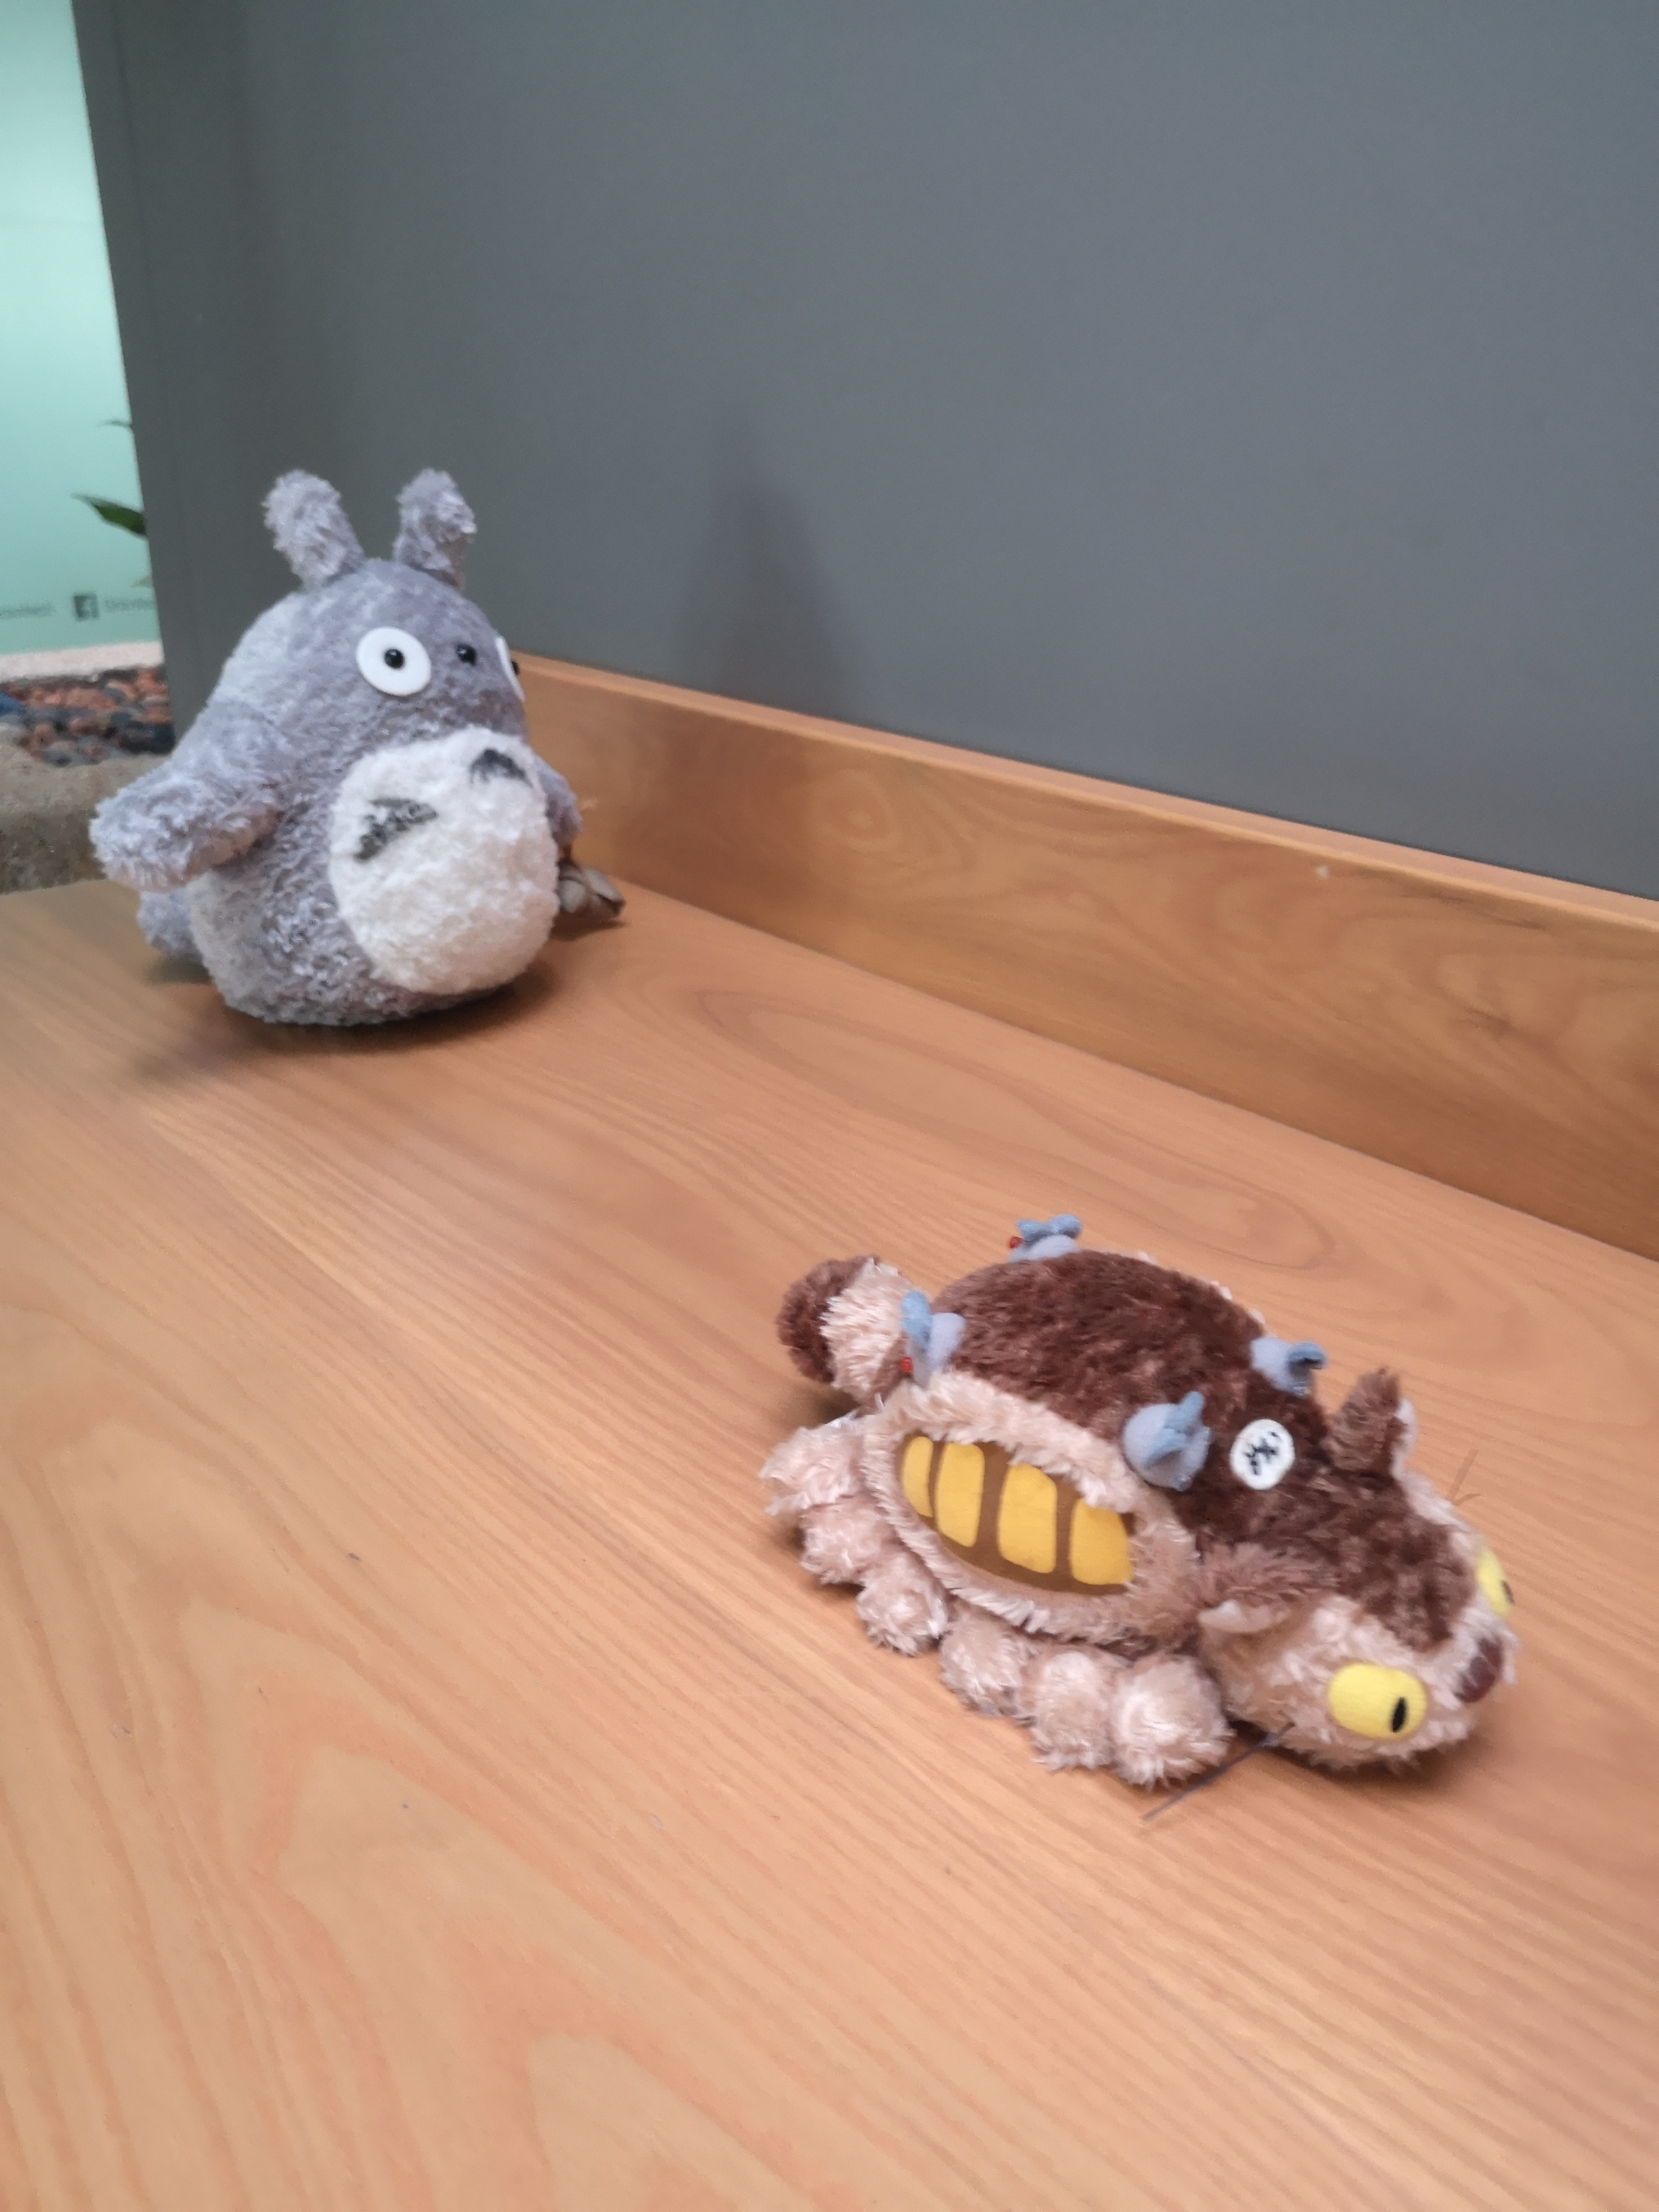nekobus: (746, 1198, 1537, 1808)
totoro: (75, 455, 648, 1071)
